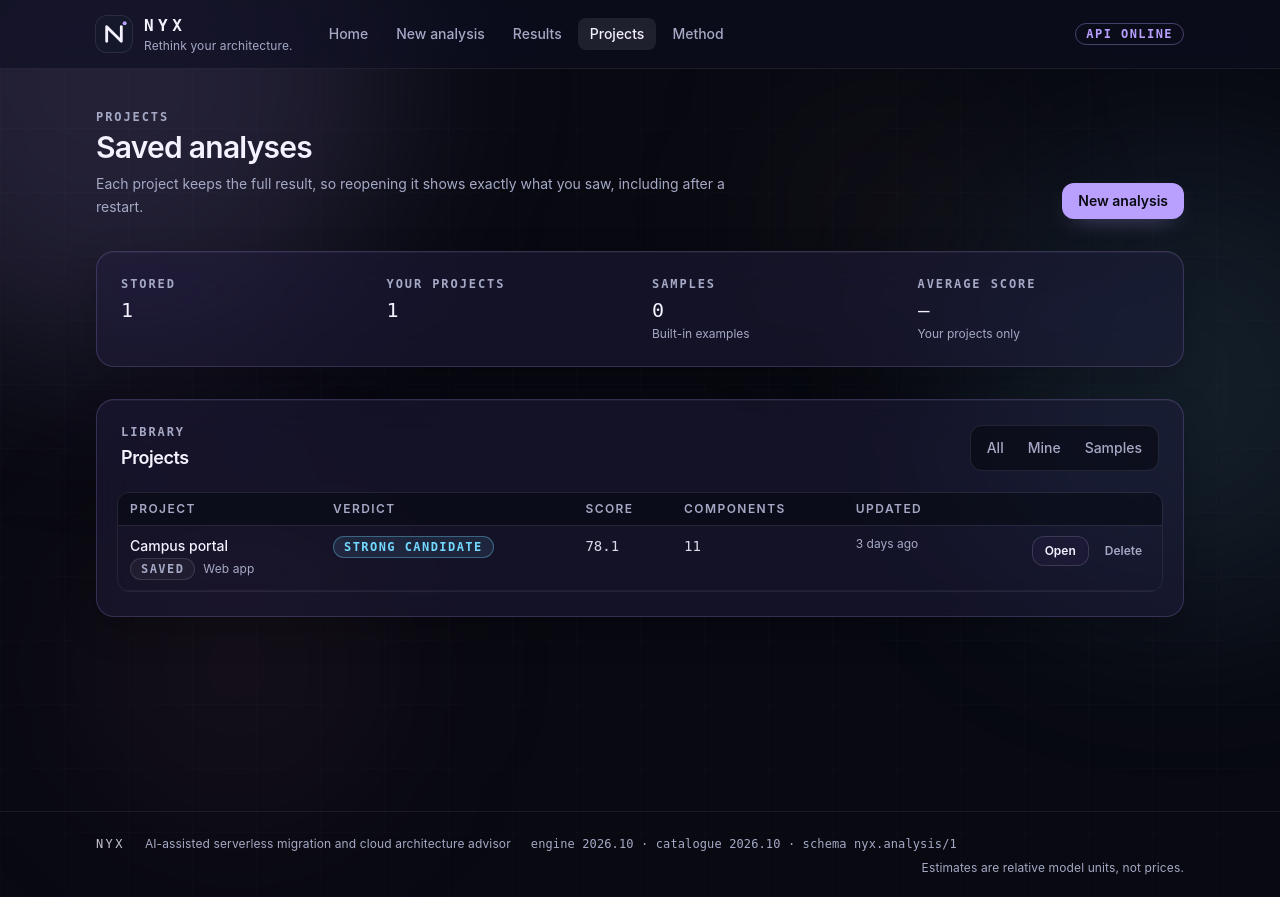
Test: projects › reopens a saved project and shows the same result
Click the button "Open" at (1060, 550), box [1032,536,1089,566]
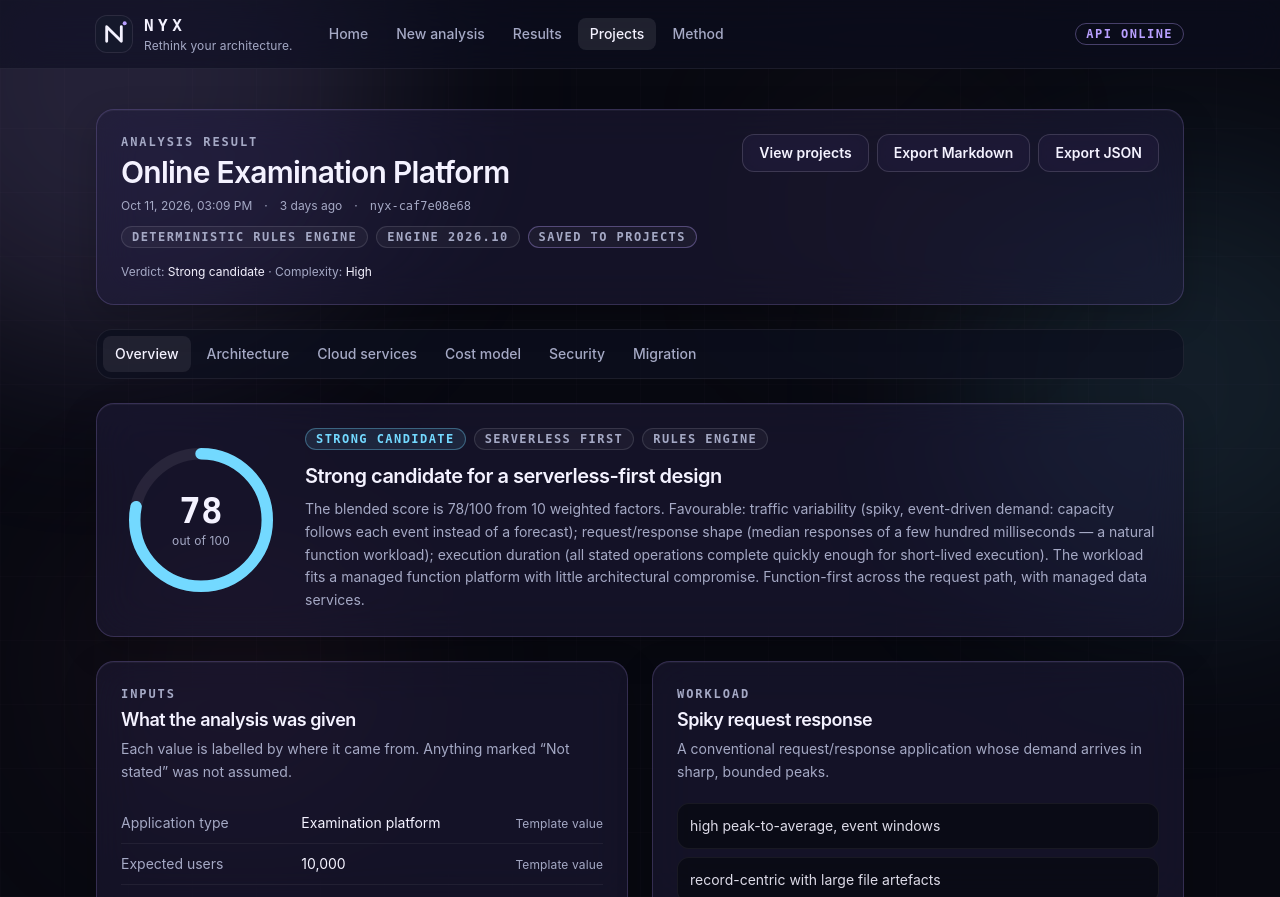
Now the heading "Strong candidate for a serverless-first design" is shown, box [305,464,722,488]
